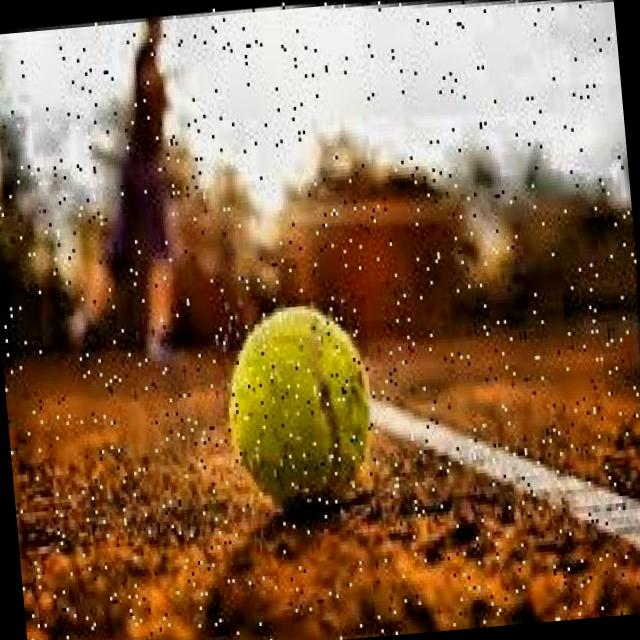Tennis Ball: (198, 285, 384, 530)
